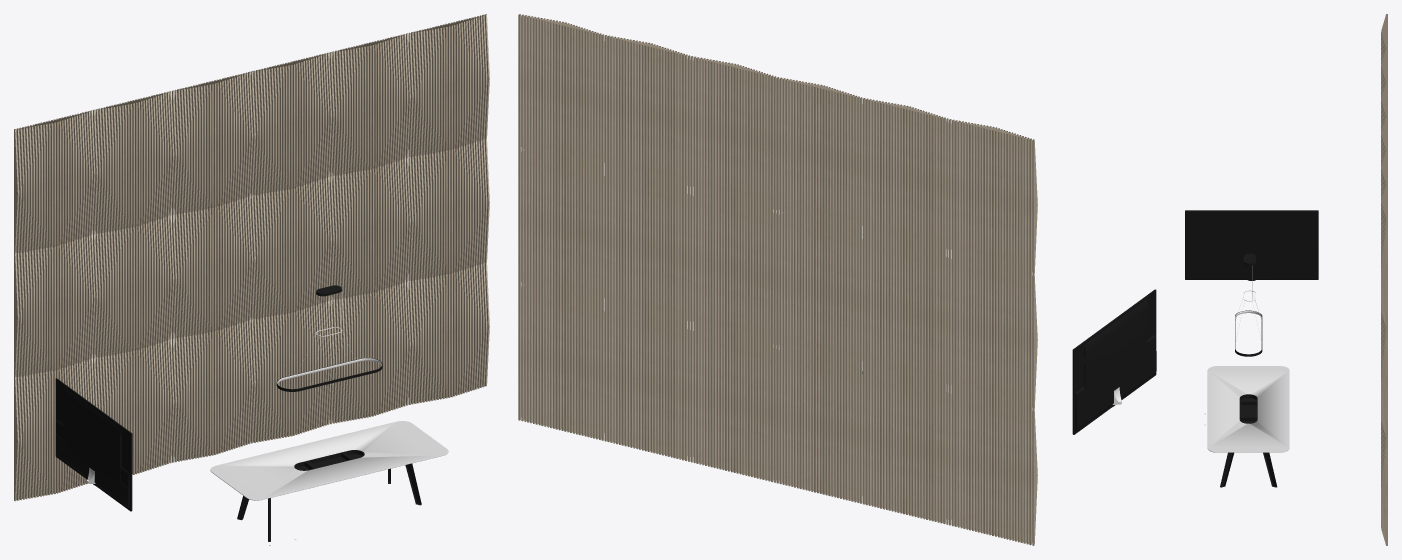
The model's file is newConferenceRoom7.glb.
3 renders of one model, left to right at view 1: azimuth 30°, elevation 25°; view 2: azimuth 150°, elevation 25°; view 3: azimuth 270°, elevation 25°, orthographic. The views are drawn at different scales.
Parts seen in each view (by area): view 1: Mesh282 Difference13 Group21 Group_82_1 Model, Mesh645 Group24 Haworth_Immerse_table___Poppy_chair1 Model, Mesh13 Group4 Group3 Model, Mesh646 Component_1_1 Haworth_Immerse_table___Poppy_chair1 M, Mesh635 Group23 Haworth_Immerse_table___Poppy_chair1 Model; view 2: Mesh282 Difference13 Group21 Group_82_1 Model, Mesh13 Group4 Group3 Model; view 3: Mesh13 Group4 Group3 Model, Mesh645 Group24 Haworth_Immerse_table___Poppy_chair1 Model, Mesh282 Difference13 Group21 Group_82_1 Model, Mesh646 Component_1_1 Haworth_Immerse_table___Poppy_chair1 M, Mesh635 Group23 Haworth_Immerse_table___Poppy_chair1 Model.
Boxes of the visible parts, bbox=[...] form: Mesh282 Difference13 Group21 Group_82_1 Model: bbox=[14, 14, 489, 501]; Mesh645 Group24 Haworth_Immerse_table___Poppy_chair1 Model: bbox=[210, 421, 448, 500]; Mesh13 Group4 Group3 Model: bbox=[55, 378, 132, 511]; Mesh646 Component_1_1 Haworth_Immerse_table___Poppy_chair1 M: bbox=[294, 450, 364, 470]; Mesh635 Group23 Haworth_Immerse_table___Poppy_chair1 Model: bbox=[237, 463, 421, 541]; Mesh282 Difference13 Group21 Group_82_1 Model: bbox=[518, 14, 1037, 545]; Mesh13 Group4 Group3 Model: bbox=[1072, 289, 1156, 434]; Mesh13 Group4 Group3 Model: bbox=[1185, 210, 1318, 280]; Mesh645 Group24 Haworth_Immerse_table___Poppy_chair1 Model: bbox=[1207, 366, 1289, 452]; Mesh282 Difference13 Group21 Group_82_1 Model: bbox=[1381, 14, 1387, 545]; Mesh646 Component_1_1 Haworth_Immerse_table___Poppy_chair1 M: bbox=[1239, 394, 1257, 423]; Mesh635 Group23 Haworth_Immerse_table___Poppy_chair1 Model: bbox=[1220, 452, 1277, 487].
Size of the model in its own units: 7.24 by 5.57 by 3.02.
8 materials, 1 textured.
